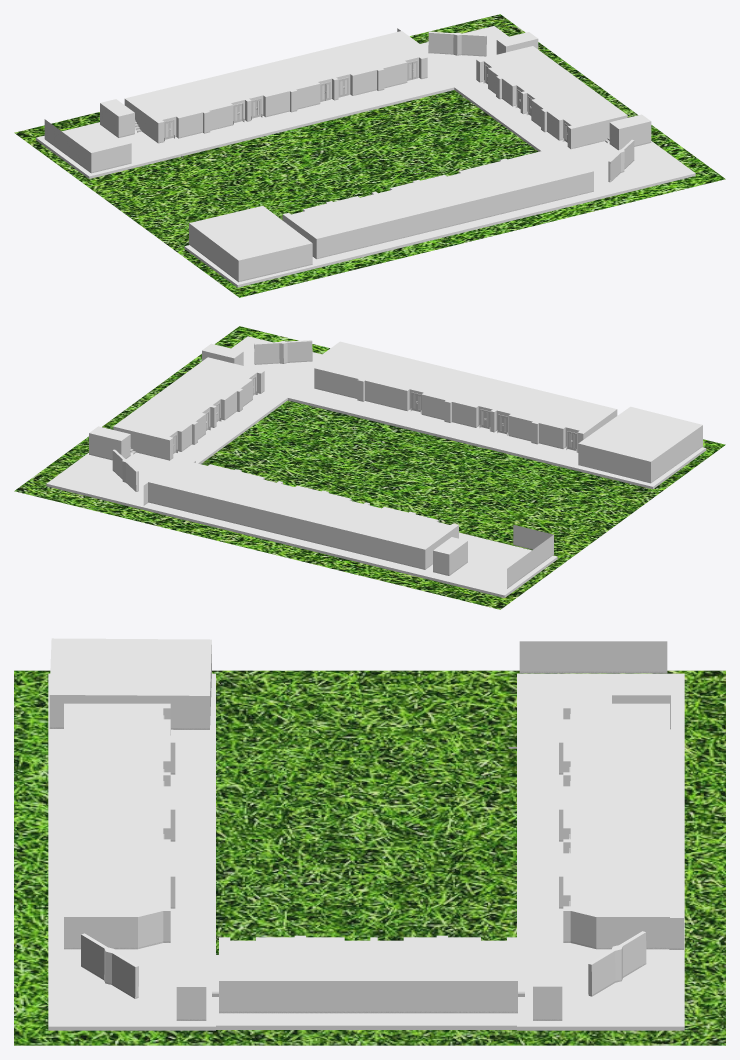
Rendered from fp grafkom baru.glb.
3 renders of one model, top to bottom at view 1: azimuth 30°, elevation 25°; view 2: azimuth 150°, elevation 25°; view 3: azimuth 270°, elevation 25°, orthographic. The views are drawn at different scales.
Parts seen in each view (by area): view 1: Plane, Cube, Ceiling, Ceiling.002, Room, Ceiling.001, Room.001, Ceiling.008, Room.010, Room.002, Room.007, Room.004 (+3 smaller); view 2: Plane, Cube, Ceiling, Ceiling.002, Room.001, Ceiling.001, Room, Ceiling.008, Room.010, Room.002, Room.007, Room.011 (+3 smaller); view 3: Plane, Cube, Ceiling, Ceiling.002, Ceiling.001, Room.002, Ceiling.008, Room.007, Room, Room.001, Room.010, Room.004 (+7 smaller).
Part boxes in pixels (<box>): Plane: <box>14,14,725,297</box>; Cube: <box>36,26,695,287</box>; Ceiling: <box>283,148,593,238</box>; Ceiling.002: <box>125,31,426,122</box>; Room: <box>282,160,593,259</box>; Ceiling.001: <box>477,46,627,128</box>; Room.001: <box>124,57,427,143</box>; Ceiling.008: <box>189,206,311,260</box>; Room.010: <box>189,223,312,281</box>; Room.002: <box>476,60,627,148</box>; Room.007: <box>44,119,131,172</box>; Room.004: <box>428,33,486,56</box>; Plane: <box>14,326,725,609</box>; Cube: <box>46,336,706,597</box>; Ceiling: <box>314,341,616,433</box>; Ceiling.002: <box>148,459,458,549</box>; Room.001: <box>148,461,458,569</box>; Ceiling.001: <box>113,357,263,440</box>; Room: <box>314,368,617,452</box>; Ceiling.008: <box>578,406,702,461</box>; Room.010: <box>578,425,702,482</box>; Room.002: <box>113,371,264,459</box>; Room.007: <box>507,525,553,587</box>; Room.011: <box>254,341,312,364</box>; Plane: <box>14,670,725,1045</box>; Cube: <box>48,673,684,1030</box>; Ceiling: <box>64,703,175,916</box>; Ceiling.002: <box>559,703,669,916</box>; Ceiling.001: <box>219,935,517,980</box>; Room.002: <box>219,981,517,1013</box>; Ceiling.008: <box>49,638,211,695</box>; Room.007: <box>519,641,667,673</box>; Room: <box>64,704,175,949</box>; Room.001: <box>559,708,669,949</box>; Room.010: <box>49,645,211,729</box>; Room.004: <box>588,932,646,996</box>.
Bounding box in the file's own units: 60.09 × 3.35 × 48.25.
Materials: 17 (1 with a texture image).
